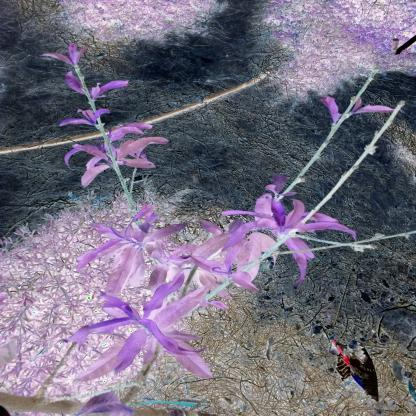Peach leaf: (142, 273, 194, 318), (106, 246, 143, 298), (114, 331, 152, 372)
